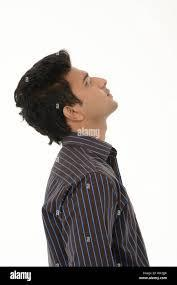Human: (14, 42, 162, 277)
